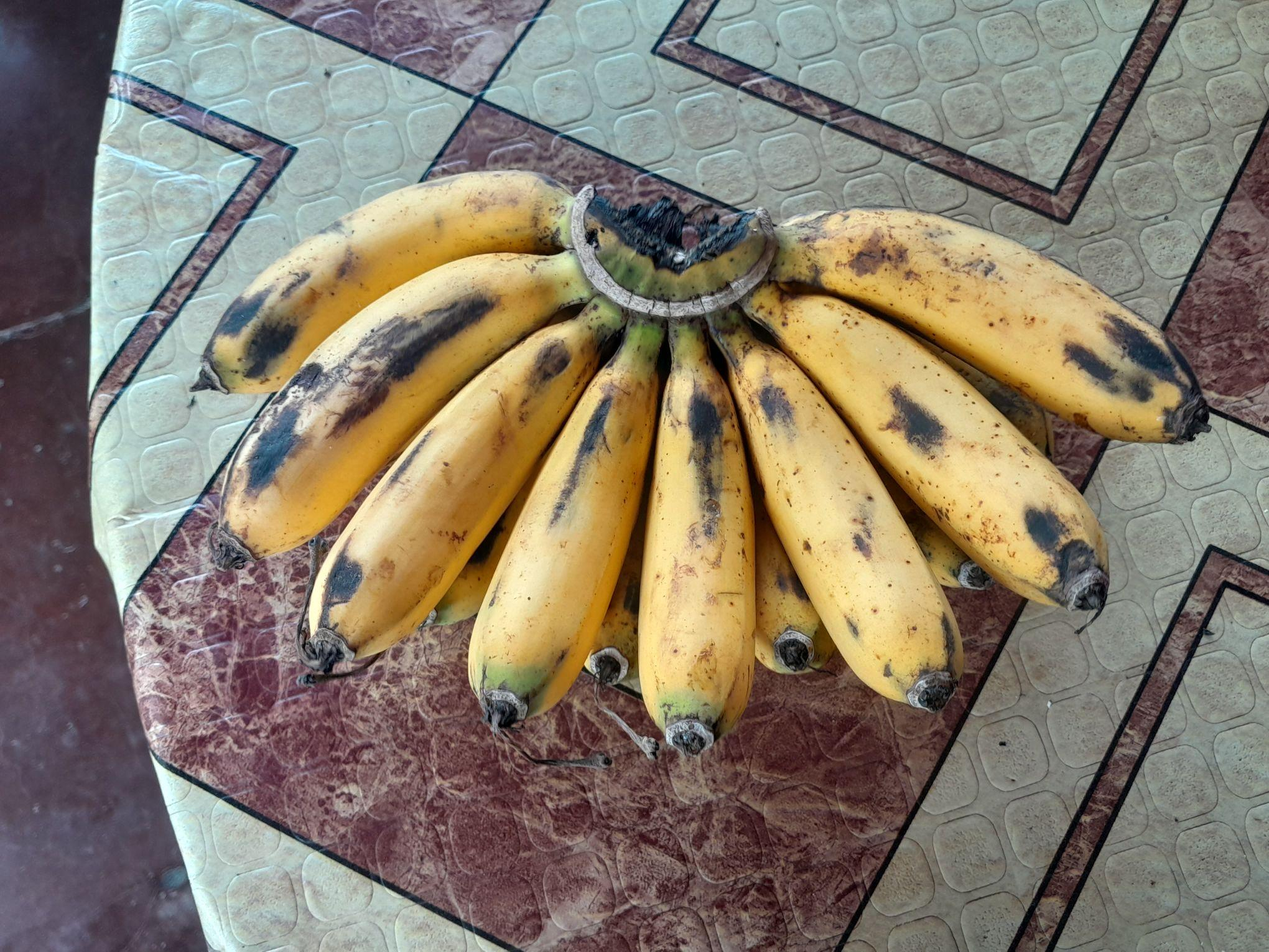Banana Unripe: (302, 298, 625, 672), (744, 283, 1108, 610), (218, 250, 595, 558), (709, 307, 964, 712), (771, 208, 1207, 441), (196, 171, 573, 393), (468, 317, 664, 729), (639, 320, 756, 756), (755, 486, 835, 674), (585, 498, 647, 684)
